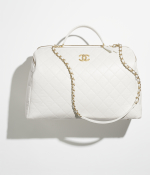channel: (25, 39, 150, 125), (54, 48, 73, 89), (75, 52, 95, 65)
